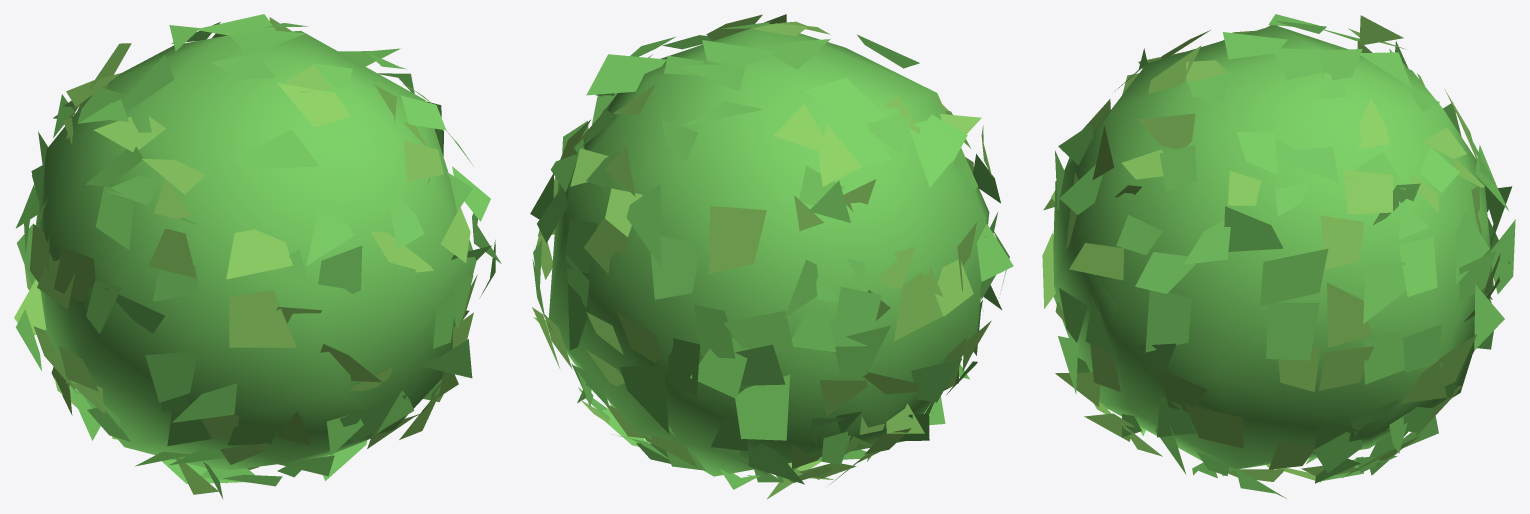
File: Bush.fbx
The picture shows the model from 3 angles, left to right: view 1: azimuth 30°, elevation 25°; view 2: azimuth 150°, elevation 25°; view 3: azimuth 270°, elevation 25°; orthographic projection.
Visible parts, largest first — view 1: Bush; view 2: Bush; view 3: Bush.
Part boxes in pixels (x1=…): Bush: x1=14, y1=14, x2=501, y2=499; Bush: x1=530, y1=14, x2=1013, y2=499; Bush: x1=1042, y1=14, x2=1515, y2=498.
Size of the model in its own units: 184 by 178 by 180.
